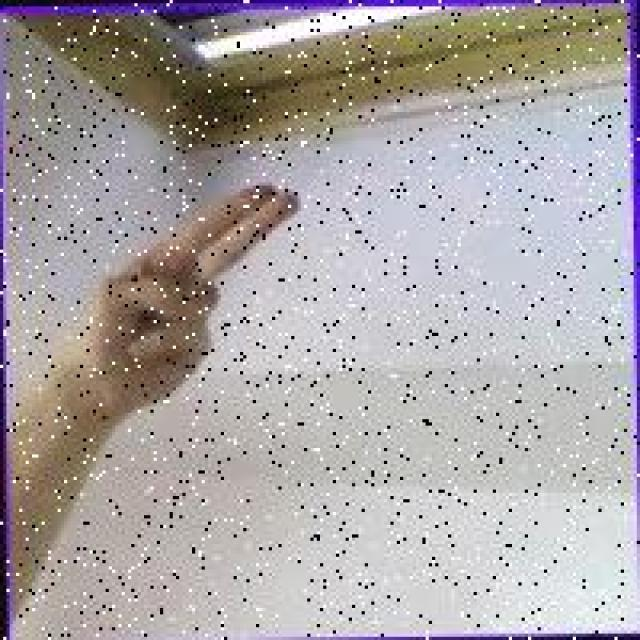H: (59, 178, 306, 424)
